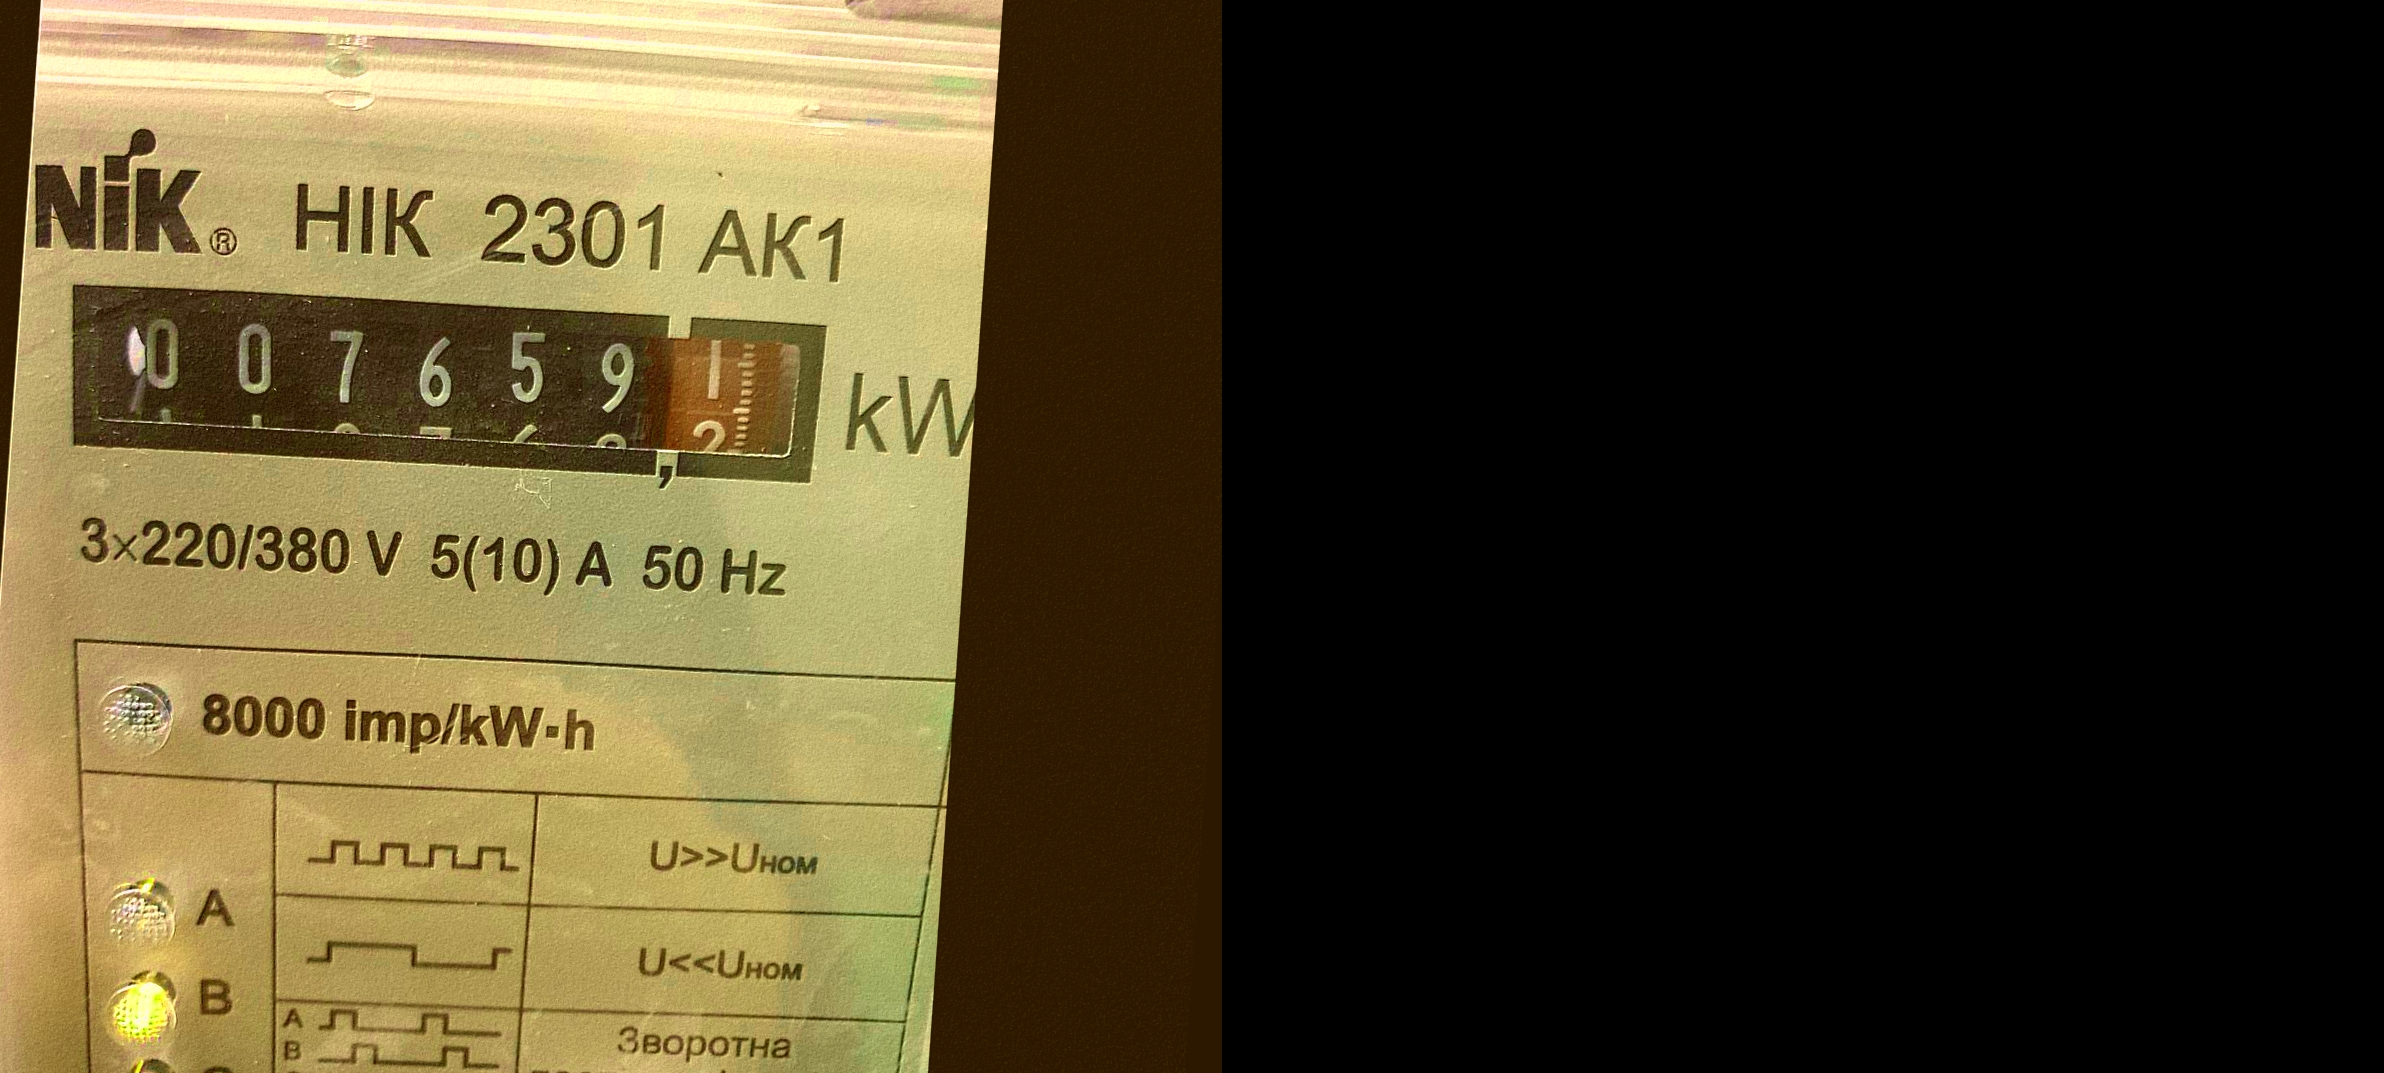0: (222, 312, 284, 403), (134, 307, 190, 401)
1: (696, 331, 736, 409)
5: (500, 324, 552, 409)
6: (407, 325, 464, 413)
7: (319, 322, 366, 410)
9: (591, 333, 640, 424)
screen: (41, 249, 848, 518)
